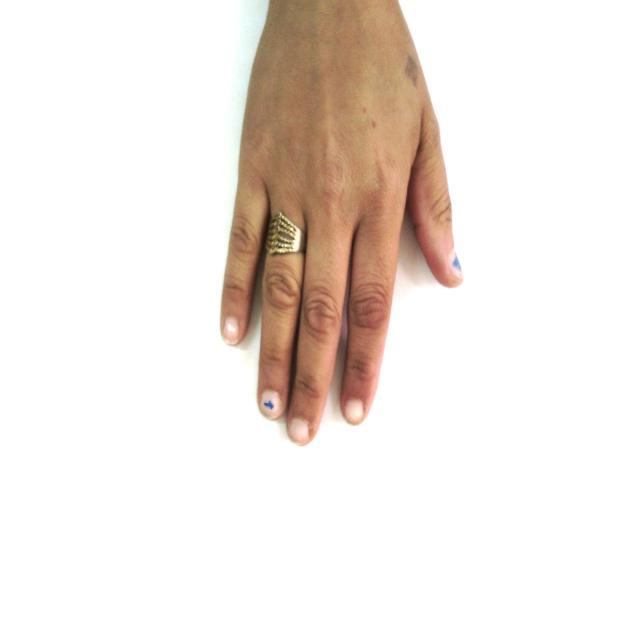Fingernail: (262, 390, 282, 416), (449, 249, 464, 279), (289, 420, 309, 442), (345, 399, 363, 423), (224, 318, 239, 343)
